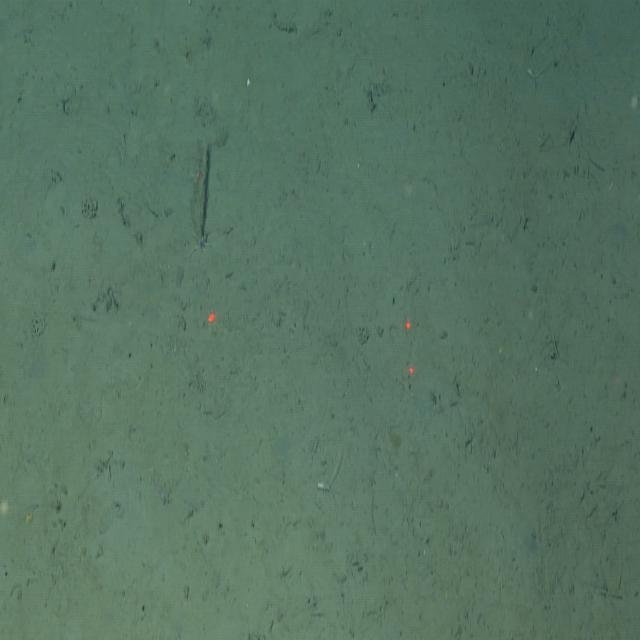Brittle Star: (184, 227, 219, 260)
Not Brittle Star: (309, 454, 347, 500)
